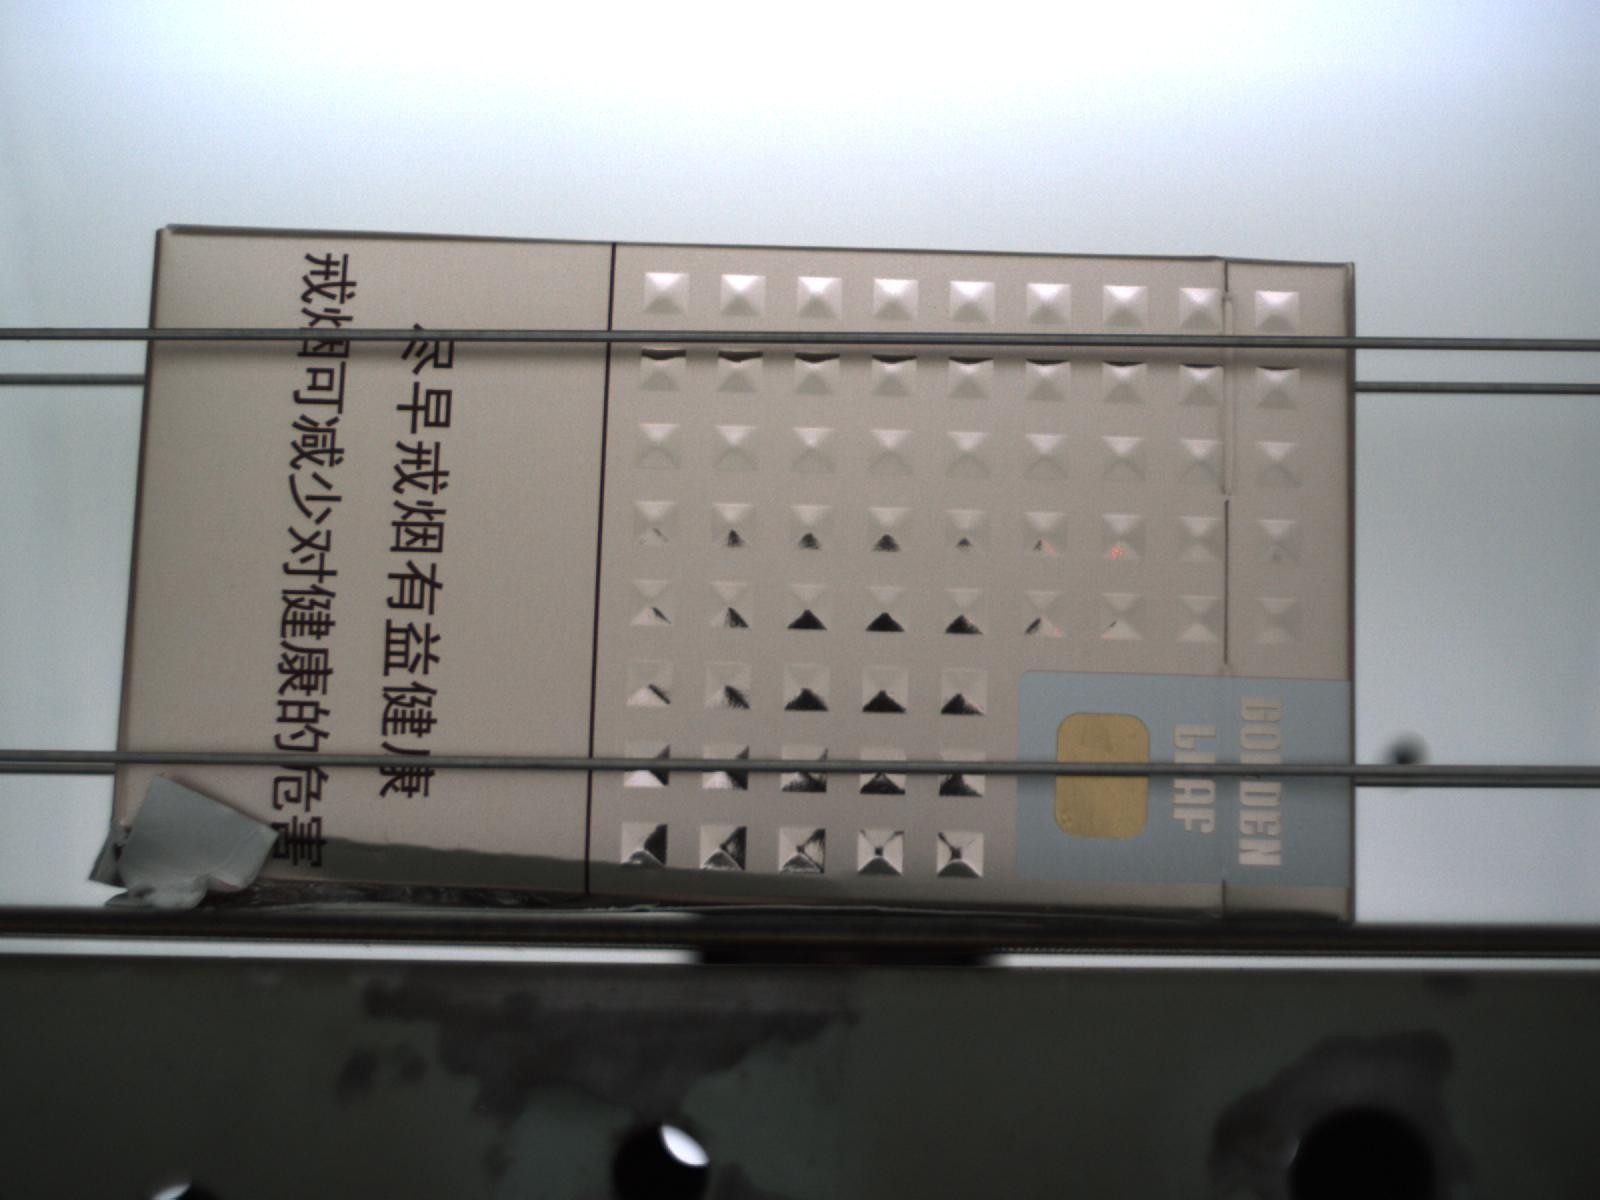dirtyScratch: (116, 829, 902, 926)
skewed_upper_2: (89, 770, 278, 913)
